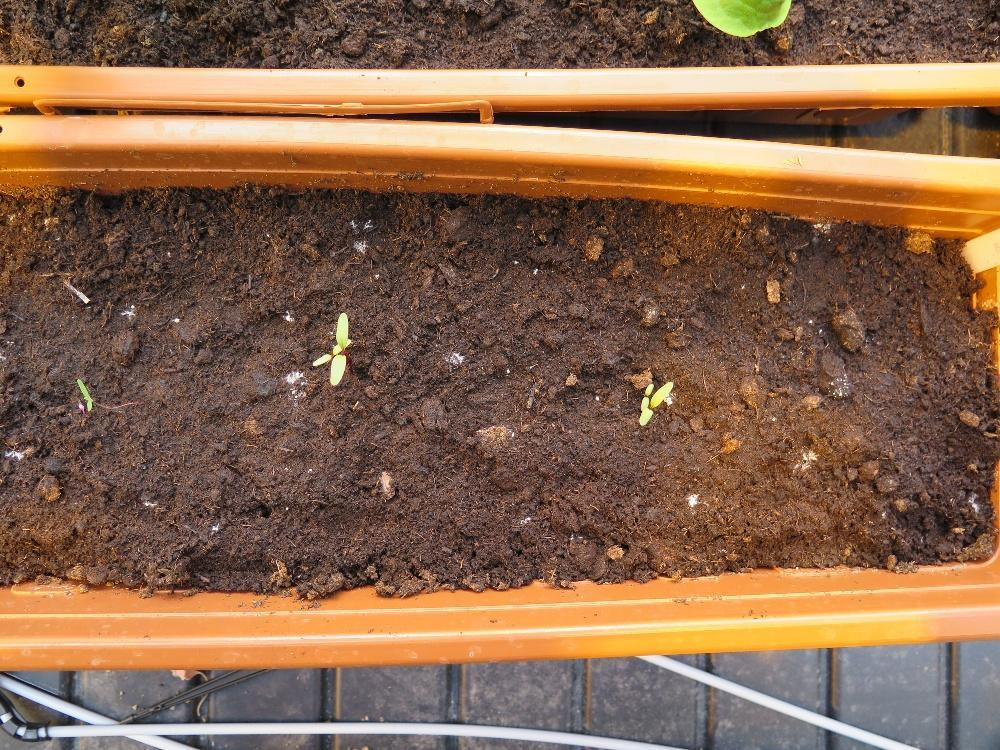weed: (73, 375, 93, 412)
